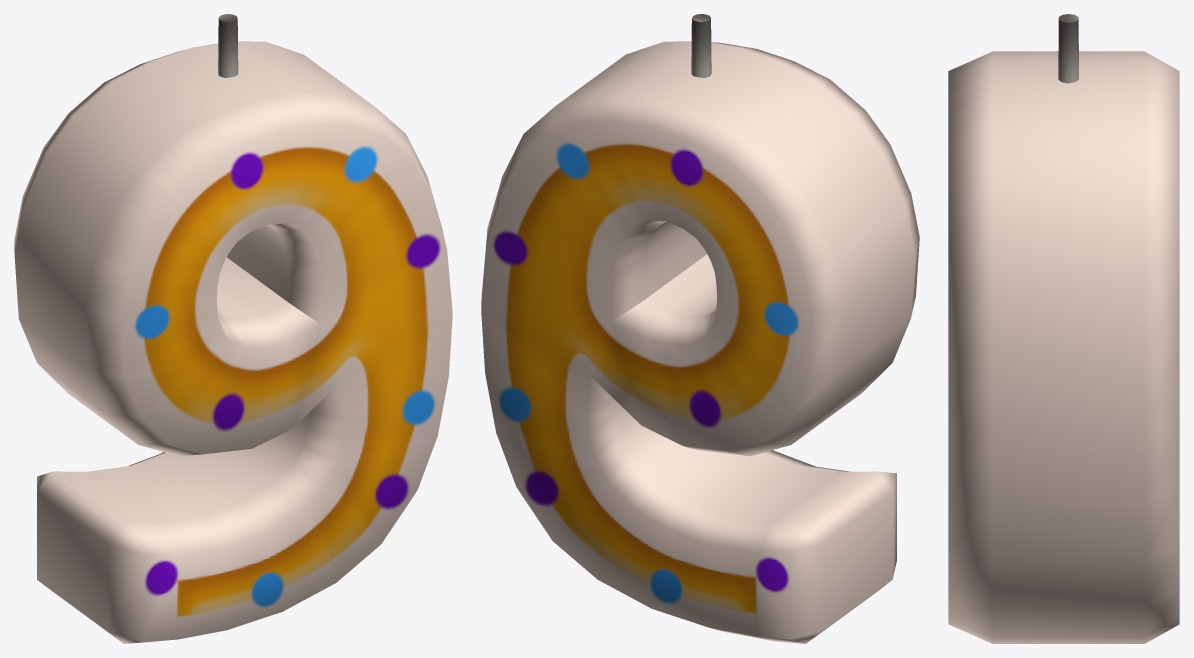
Rendered from Candle_9.fbx.
3 views of the same model, side by side, from view 1: azimuth 30°, elevation 25°; view 2: azimuth 150°, elevation 25°; view 3: azimuth 270°, elevation 25° (orthographic). The views are drawn at different scales.
Visible parts, largest first — view 1: Candle_9; view 2: Candle_9; view 3: Candle_9.
Boxes of the visible parts, x1,y1,x2,y2 form: Candle_9: (14,14,452,643); Candle_9: (481,14,919,643); Candle_9: (948,14,1179,643).
Bounding box in the file's own units: 20.19 × 30.52 × 10.35.
